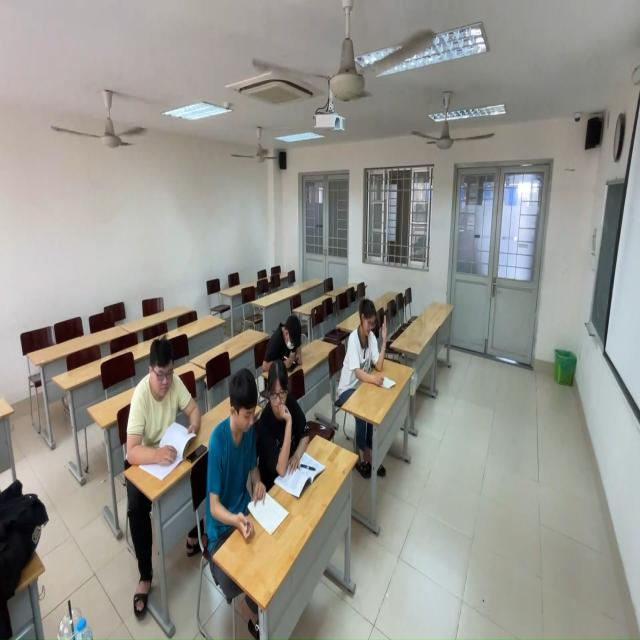raise_hand: (336, 284, 391, 402)
read: (201, 369, 280, 539), (132, 334, 201, 463), (262, 356, 319, 489), (265, 302, 306, 368)
